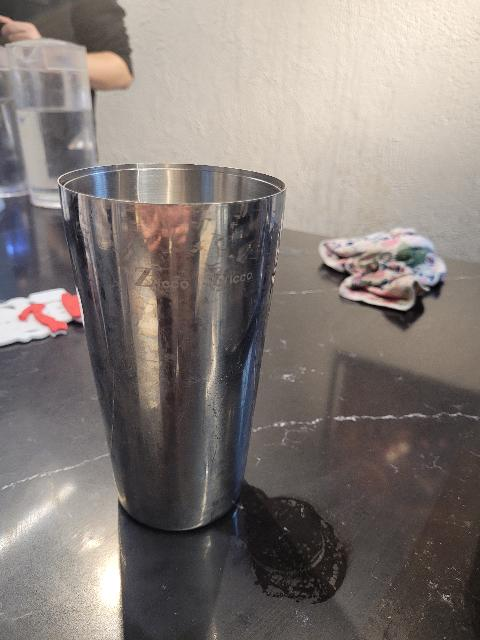Metal: (57, 154, 291, 541)
